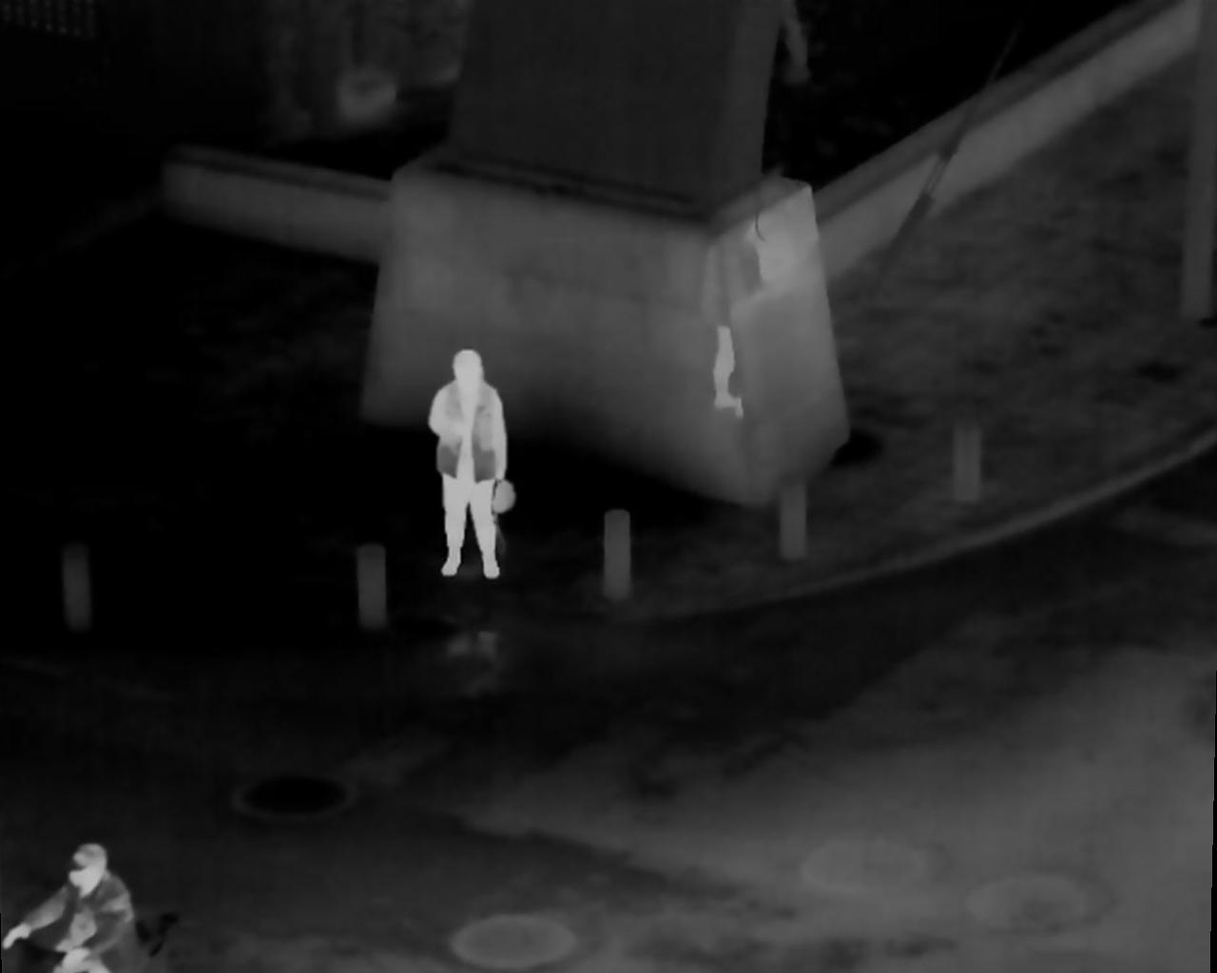person: (425, 354, 517, 594), (17, 840, 145, 973)
